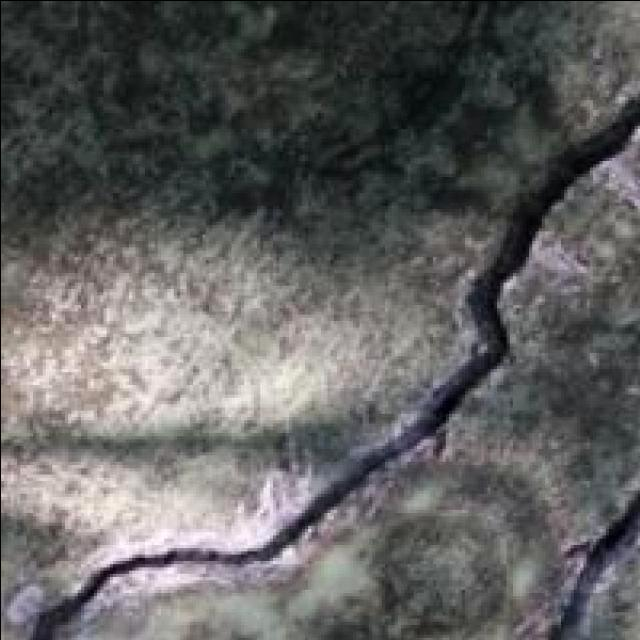SurfaceCrack: (298, 88, 640, 448), (0, 420, 422, 640), (546, 470, 640, 640)
